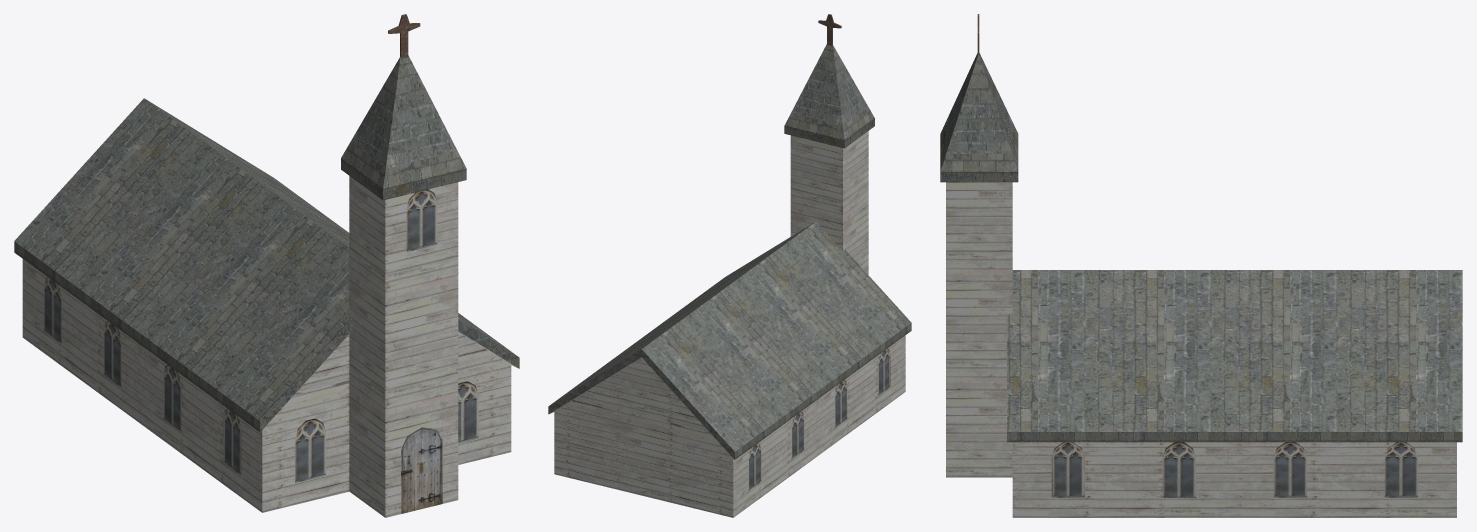
Rendered from psx_abandoned_church.glb.
3 views of the same model, side by side, from view 1: azimuth 30°, elevation 25°; view 2: azimuth 150°, elevation 25°; view 3: azimuth 270°, elevation 25° (orthographic). The views are drawn at different scales.
Parts seen in each view (by area): view 1: PSX Abandoned Church; view 2: PSX Abandoned Church; view 3: PSX Abandoned Church.
Part boxes in pixels (x1=…): PSX Abandoned Church: x1=14, y1=14, x2=519, y2=517; PSX Abandoned Church: x1=548, y1=14, x2=911, y2=517; PSX Abandoned Church: x1=940, y1=14, x2=1462, y2=517.
Size of the model in its own units: 6.26 by 11.08 by 11.76.
5 materials, 5 textured.
